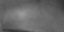RightEyeFatigue: (4, 15, 37, 32)
